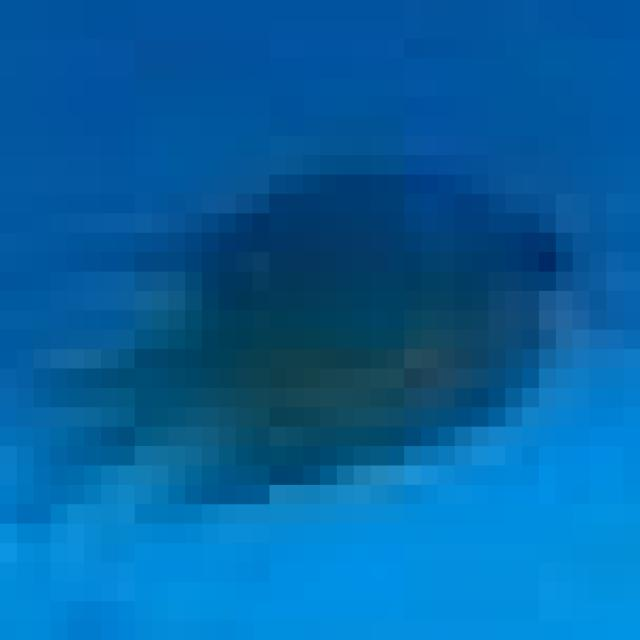fish: (17, 19, 640, 640)
